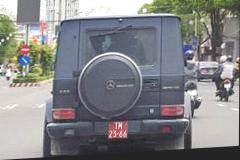License_Plate: (107, 119, 131, 141)
